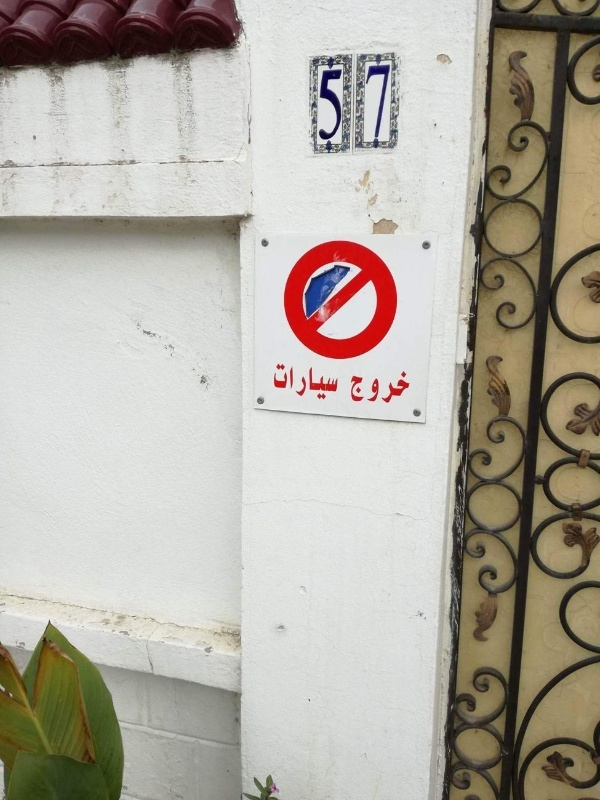text: (369, 63, 384, 146), (321, 68, 336, 143), (385, 63, 393, 146), (289, 359, 304, 402), (305, 359, 320, 402), (321, 359, 336, 402), (274, 359, 288, 402), (337, 68, 344, 143), (353, 371, 368, 404), (369, 371, 384, 404), (385, 371, 400, 404), (401, 371, 411, 404), (337, 359, 339, 402), (367, 63, 368, 146), (351, 371, 352, 404)
